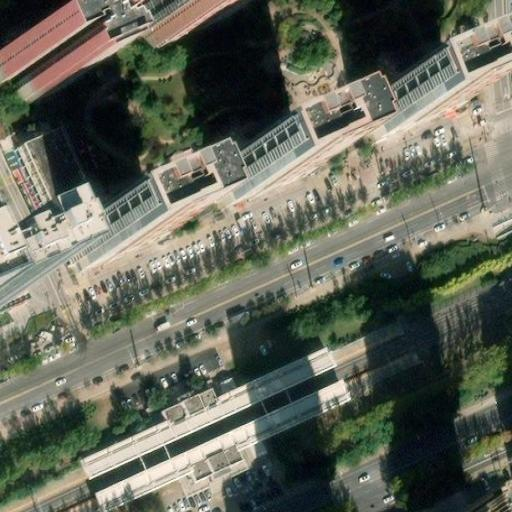building: (11, 133, 95, 238), (49, 200, 150, 277), (211, 127, 306, 201), (361, 62, 452, 132), (0, 27, 69, 104)
